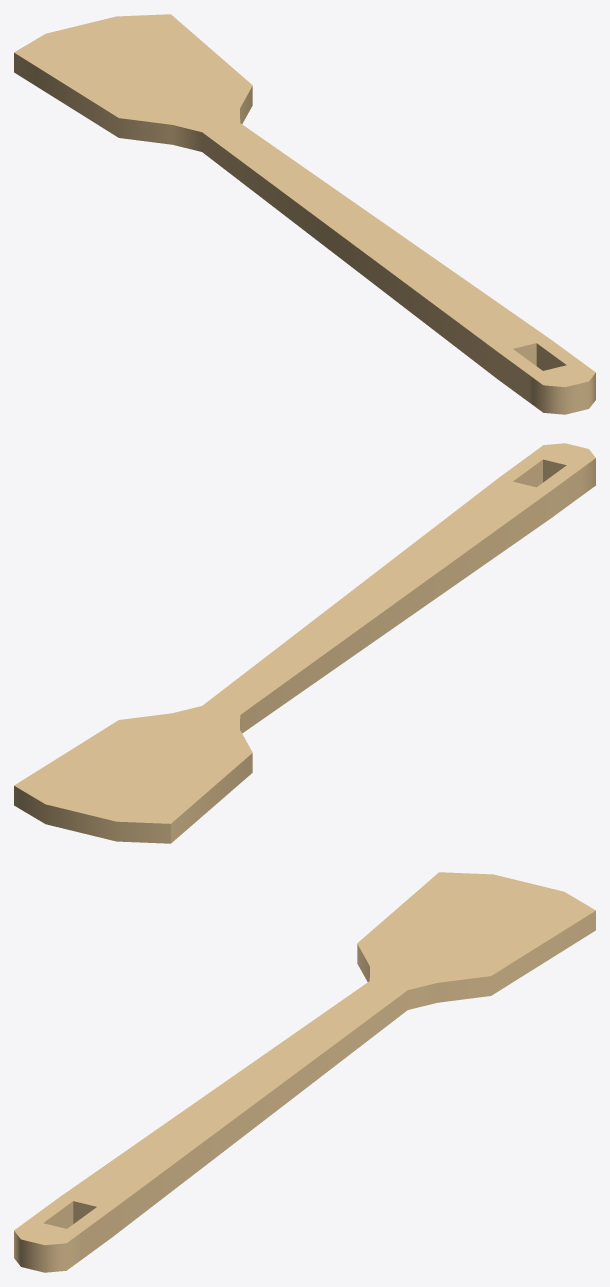
Rendered from utensil_wooden_spatula.fbx.
The picture shows the model from 3 angles, top to bottom: view 1: azimuth 30°, elevation 25°; view 2: azimuth 150°, elevation 25°; view 3: azimuth 330°, elevation 25°; orthographic projection.
Visible parts, largest first — view 1: wooden spatula; view 2: wooden spatula; view 3: wooden spatula.
Boxes of the visible parts, x1,y1,x2,y2 form: wooden spatula: (14, 14, 595, 414); wooden spatula: (14, 443, 595, 843); wooden spatula: (14, 872, 595, 1272).
Size of the model in its own units: 68.01 by 11.39 by 372.
